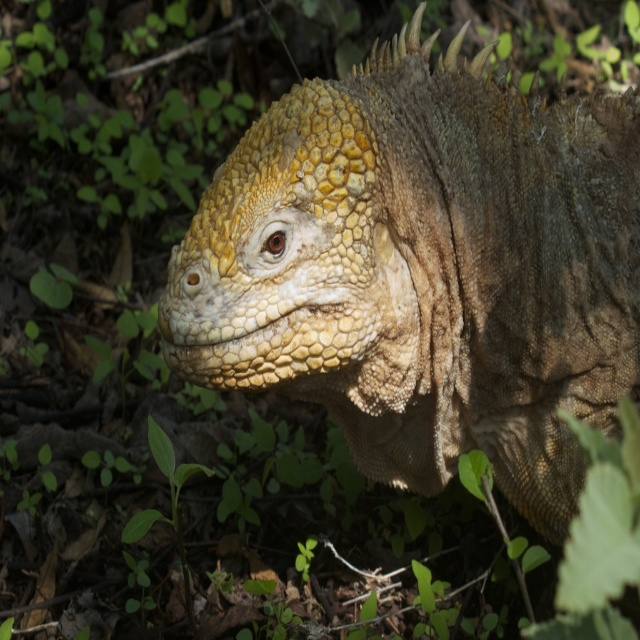Lizard: (152, 13, 632, 599)
